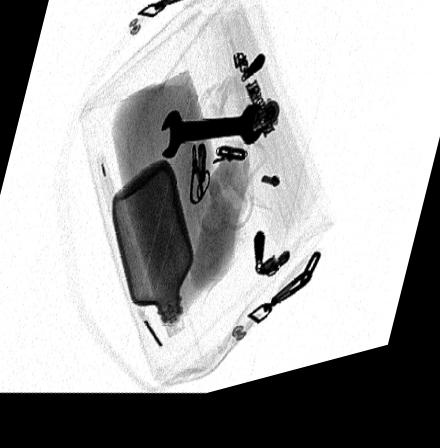Wrench: (157, 114, 266, 170)
